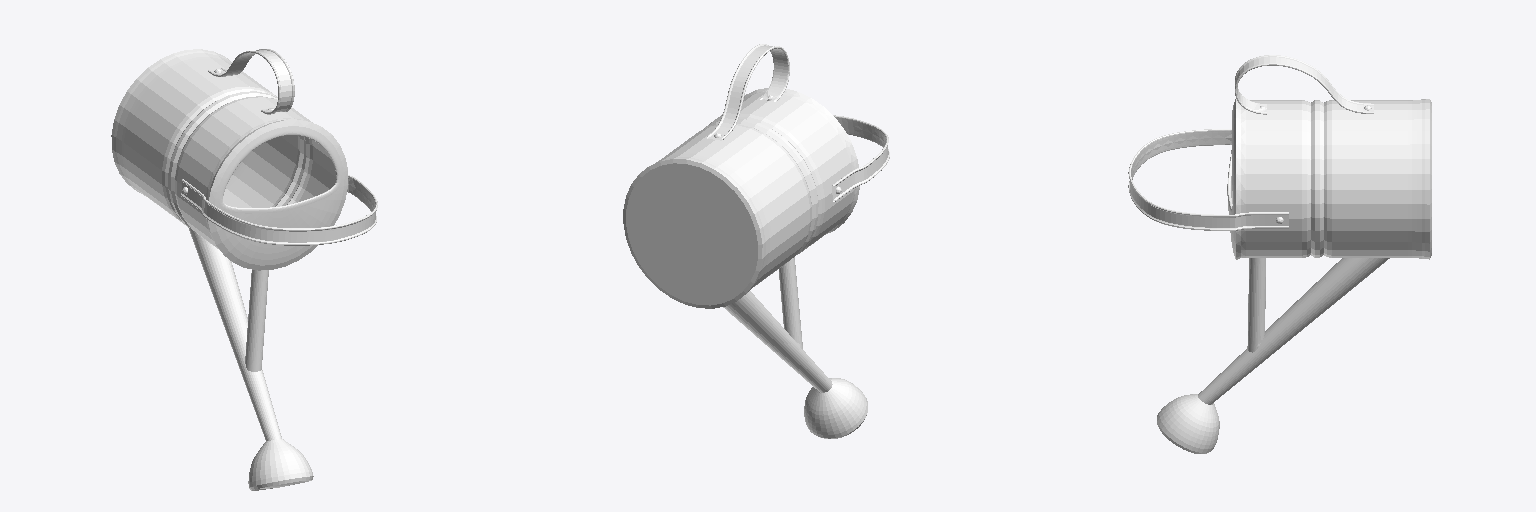
The model's file is wateringcan2.obj.
The picture shows the model from 3 angles: view 1: azimuth 30°, elevation 25°; view 2: azimuth 150°, elevation 25°; view 3: azimuth 270°, elevation 25°; orthographic projection.
Parts seen in each view (by area): view 1: Object.1; view 2: Object.1; view 3: Object.1.
Part boxes in pixels (bbox=[...]): Object.1: bbox=[111, 49, 377, 490]; Object.1: bbox=[623, 44, 889, 438]; Object.1: bbox=[1128, 55, 1431, 453].
Size of the model in its own units: 27.64 by 70.61 by 47.85.